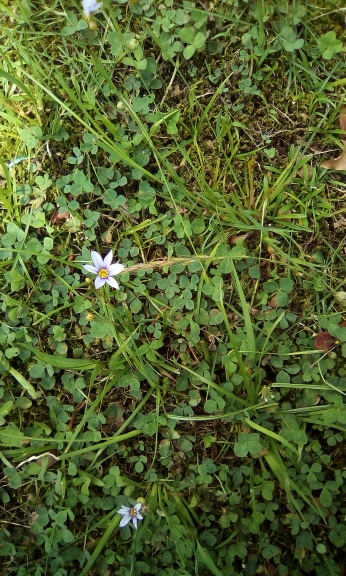4leaf: (156, 273, 181, 299), (102, 189, 127, 211), (173, 220, 193, 240), (131, 96, 151, 115), (35, 173, 53, 191)
